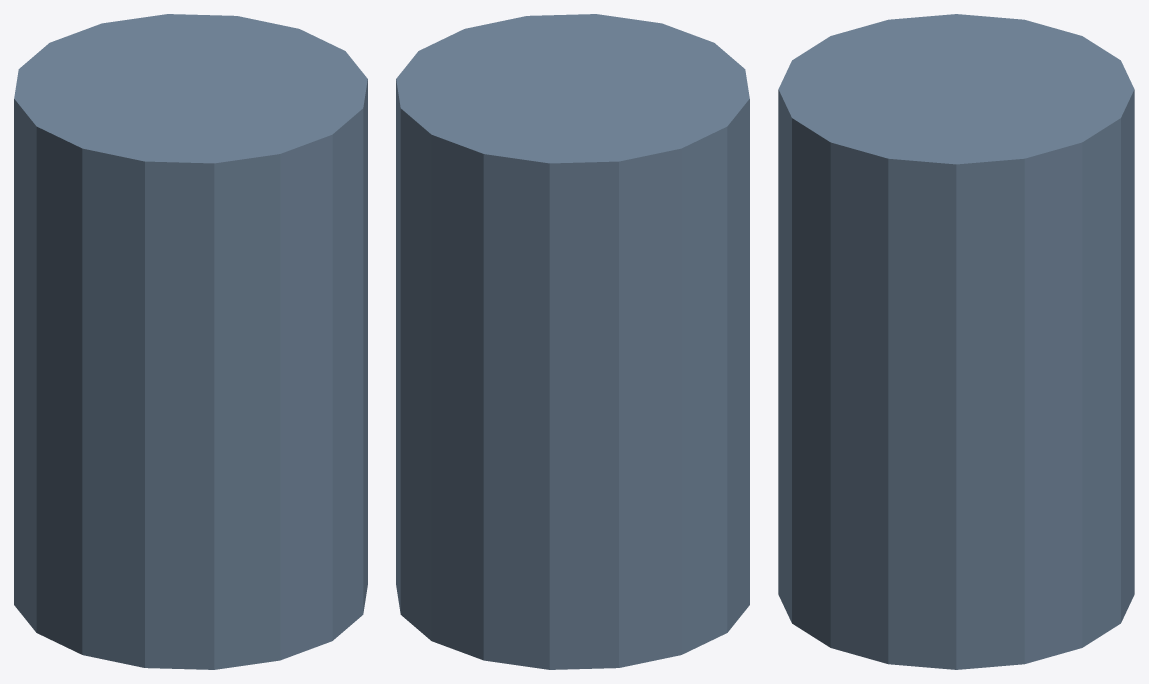
Rendered from Prop_Barrel_Oil.fbx.
3 views of the same model, side by side, from view 1: azimuth 30°, elevation 25°; view 2: azimuth 150°, elevation 25°; view 3: azimuth 270°, elevation 25° (orthographic).
Visible parts, largest first — view 1: OilDrum; view 2: OilDrum; view 3: OilDrum.
Part boxes in pixels (x1,y1,x2,y2): OilDrum: (14,14,367,669); OilDrum: (396,14,749,669); OilDrum: (778,14,1134,669).
Size of the model in its own units: 0.6 by 0.94 by 0.6.
